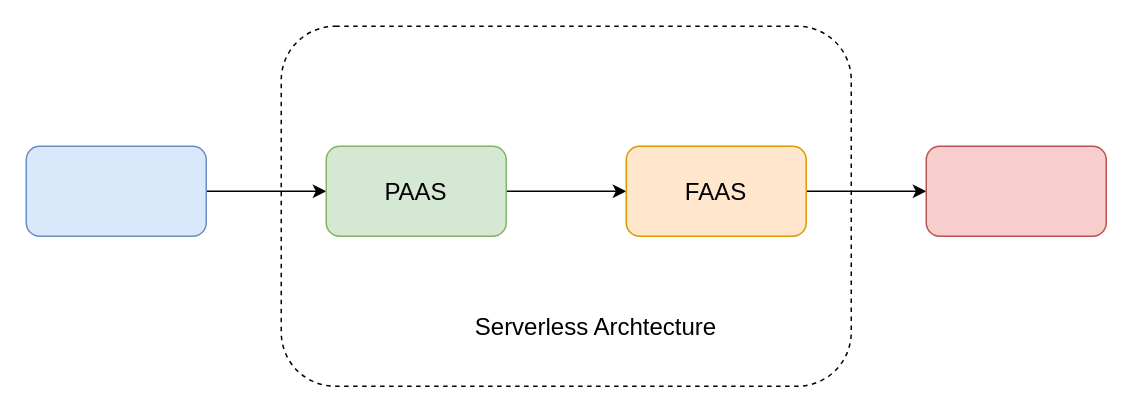
Some shapes in this 1133 by 413 pixel diagram are drawn without their labels. Each missing label, with the centre of its shape:
IAAS: pixel 115 190
SAAS: pixel 1015 190
